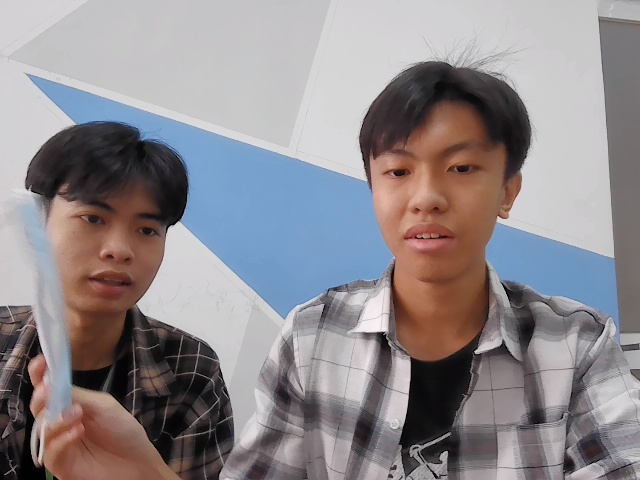human: (359, 58, 532, 280), (37, 124, 178, 303)
